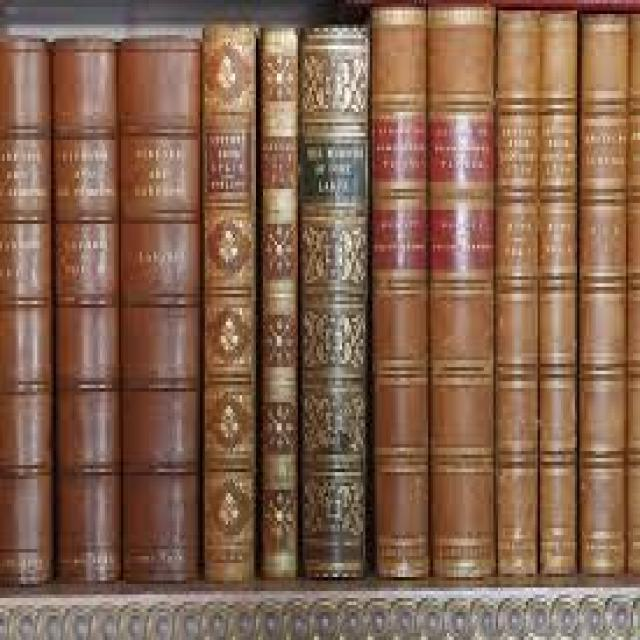book: (199, 19, 262, 574)
